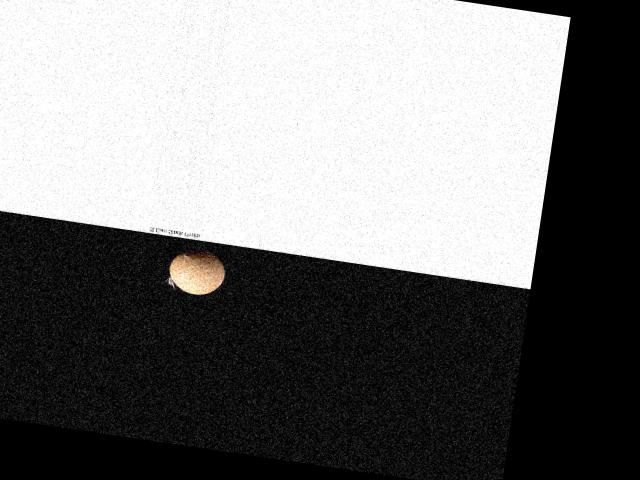egg: (167, 245, 228, 297)
